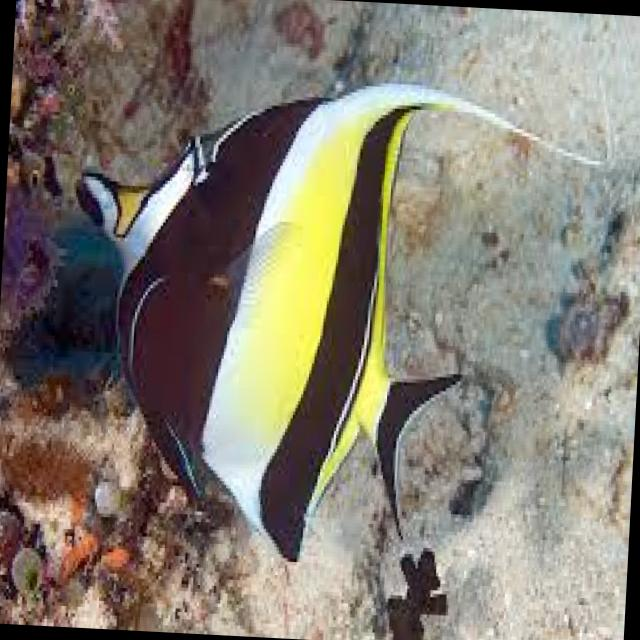MorishIdol: (53, 61, 622, 582)
